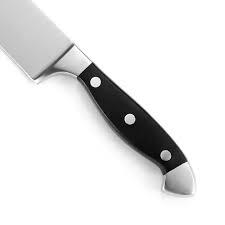Knife: (0, 0, 196, 196)
